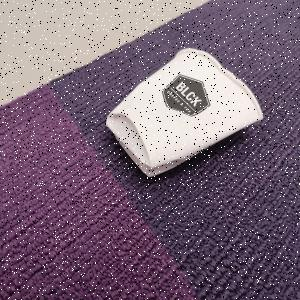Cup: (106, 48, 265, 180)
